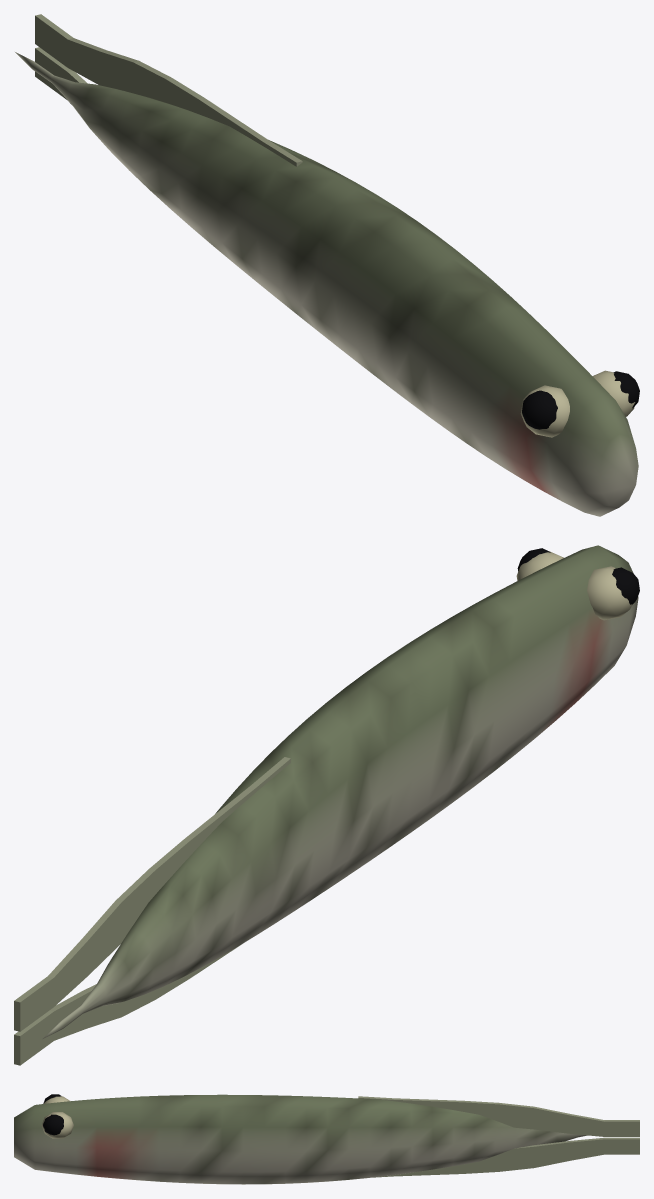
Rendered from Metaspriggina.fbx.
The picture shows the model from 3 angles, top to bottom: view 1: azimuth 30°, elevation 25°; view 2: azimuth 150°, elevation 25°; view 3: azimuth 270°, elevation 25°; orthographic projection. The views are drawn at different scales.
Parts seen in each view (by area): view 1: Metaspriggina; view 2: Metaspriggina; view 3: Metaspriggina.
Part boxes in pixels (<box>): Metaspriggina: <box>15,14,639,516</box>; Metaspriggina: <box>14,545,639,1065</box>; Metaspriggina: <box>14,1094,639,1184</box>.
Bounding box in the file's own units: 0.1102 × 0.1579 × 1.
